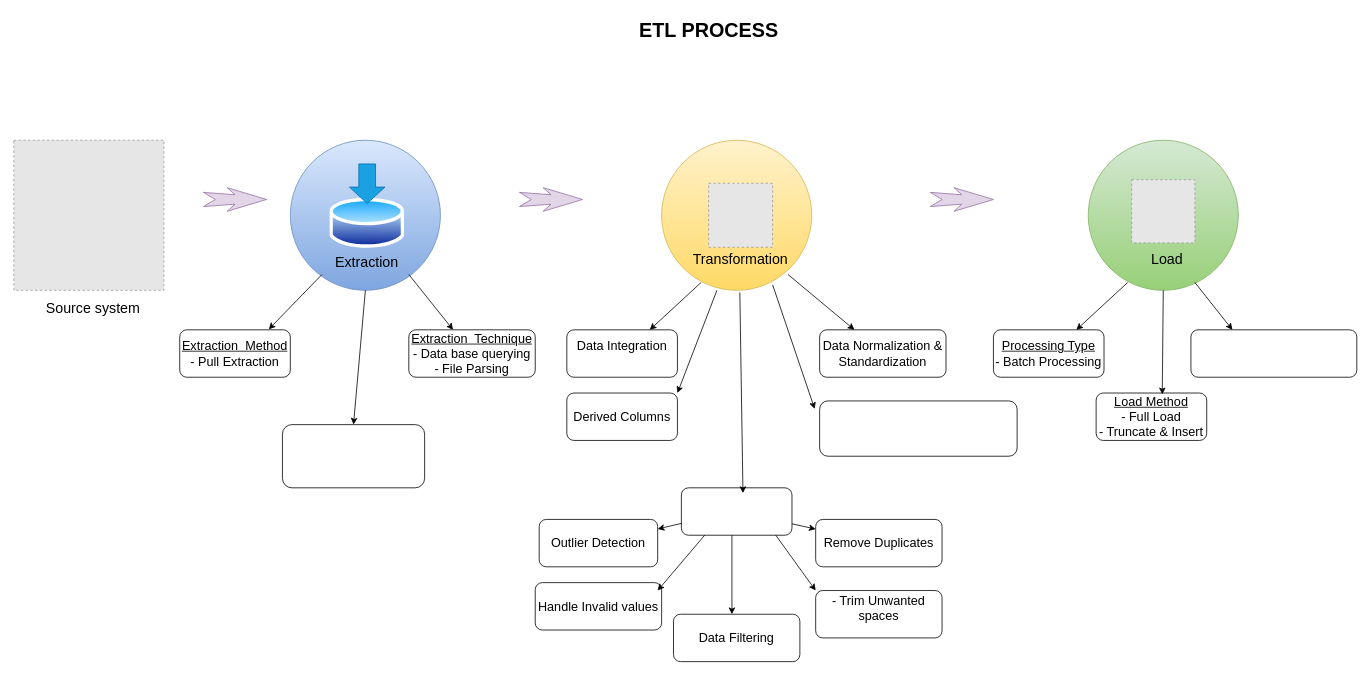
The diagram is 1371 pixels wide and 675 high, and some of its shapes have lost their labels. Grey dashed boxes stand in for pictures. Here are the shapes that lost their labels. From the top down, the centre of each, then its label:
At pixel 1273 353: "Slowly Changing Dimensions (SCD) - Type 2 (Historization)".
At pixel 918 428: "Business Logic & Modeling - Surrogate key generation - Organization rules".
At pixel 353 456: "Extraction Type - Full Extraction - Incremental Extraction".
At pixel 736 511: "Data Cleansing".
